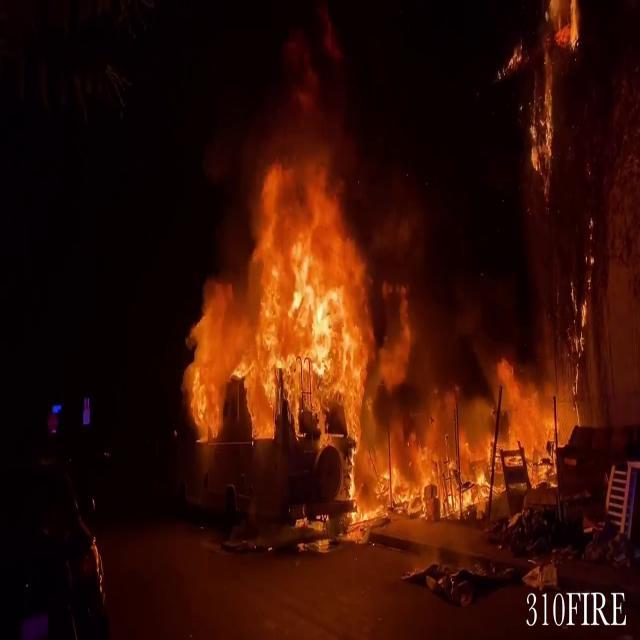Fire: (198, 106, 424, 534), (350, 300, 601, 560), (517, 0, 583, 176)
